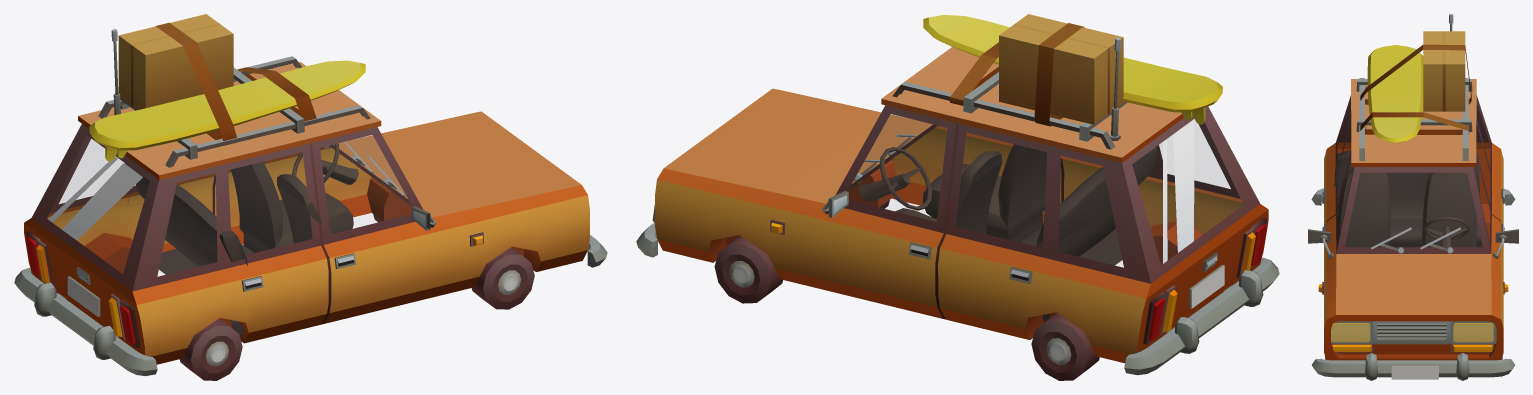
File: Car_04.FBX
3 views of the same model, side by side, from view 1: azimuth 30°, elevation 25°; view 2: azimuth 150°, elevation 25°; view 3: azimuth 270°, elevation 25° (orthographic). The views are drawn at different scales.
Parts seen in each view (by area): view 1: Car_04; view 2: Car_04; view 3: Car_04.
Part boxes in pixels (left/top/right/bottom): Car_04: left=14, top=14, right=607, bottom=380; Car_04: left=636, top=14, right=1279, bottom=380; Car_04: left=1308, top=14, right=1518, bottom=380.
Size of the model in its own units: 401 by 230 by 191.
2 materials, 1 textured.
